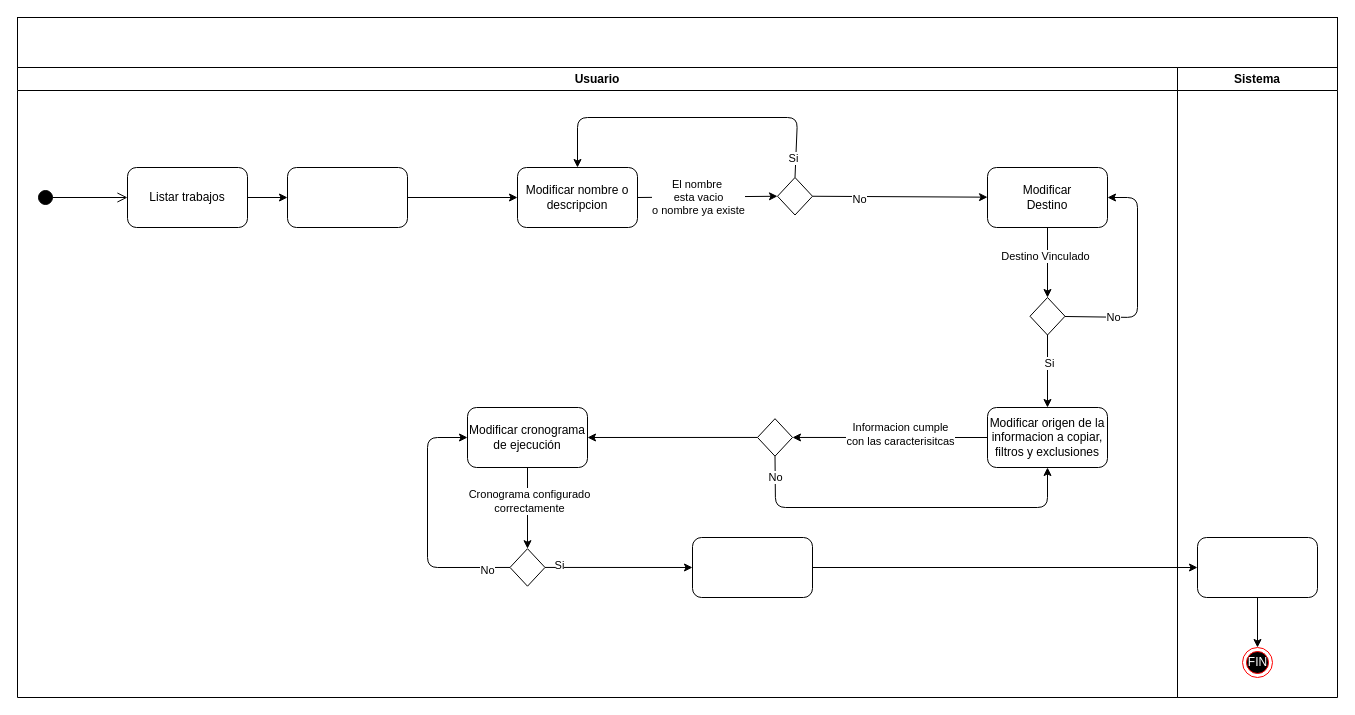
The diagram is 1355 pixels wide and 715 high, and some of its shapes have lost their labels. The shapes that lost their labels are listed below. From the top down, each one's centre as x and y in pixels, then its label:
the point at 677,42: Diagrama de actividad Modificar Trabajo
the point at 347,197: Presionar boton modificar trabajo
the point at 752,567: Agregar Scripts de tipos PRE o POST (Opcional)
the point at 1257,567: Guardar informacion en base de datos
